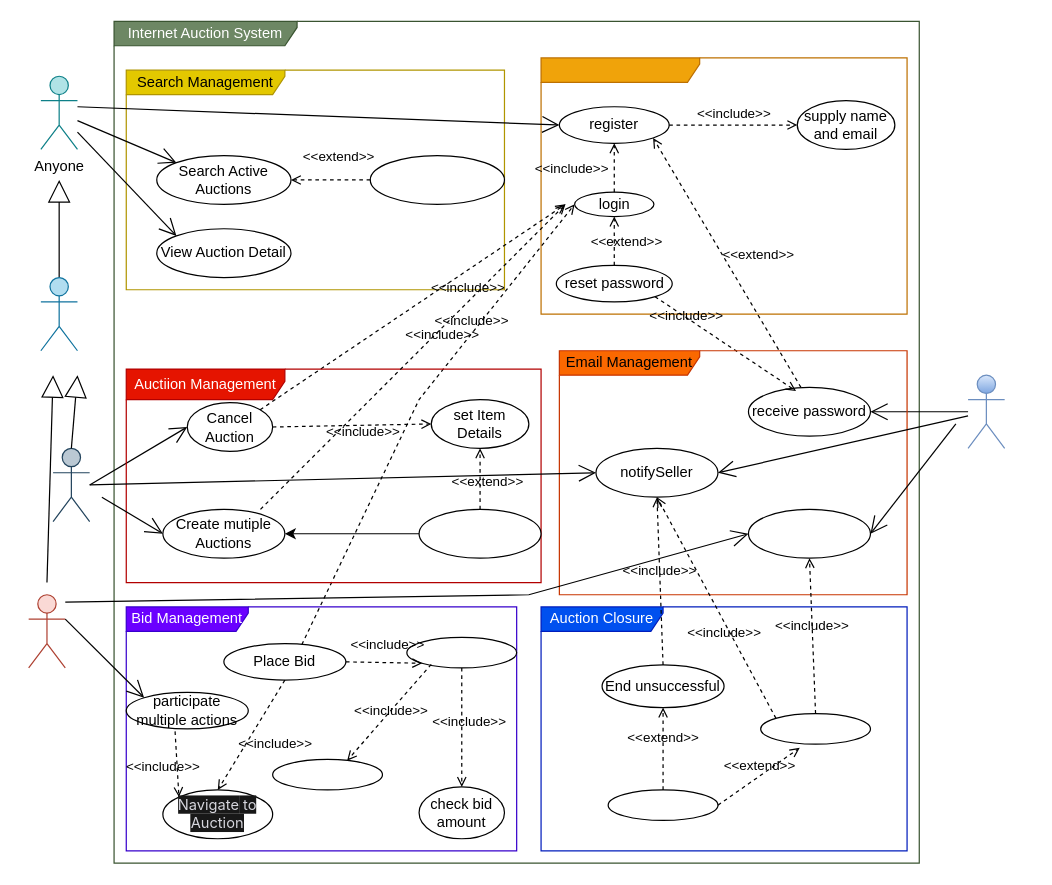
Image size: 1052x885. Some labels were removed from this diagram. Each missing label, with the centre of its shape:
"Bidder *" goes at [46,631].
"check bid time" goes at [326,774].
"close auction" goes at [662,804].
"Email System" goes at [986,411].
"End successful" goes at [814,728].
"Member Management" goes at [723,185].
"Members" goes at [58,313].
"notifyBidder" goes at [808,533].
"provide images and description" goes at [479,533].
"Seller" goes at [71,484].
"Sort by Closing Time" goes at [436,179].
"validate Bid" goes at [461,652].
